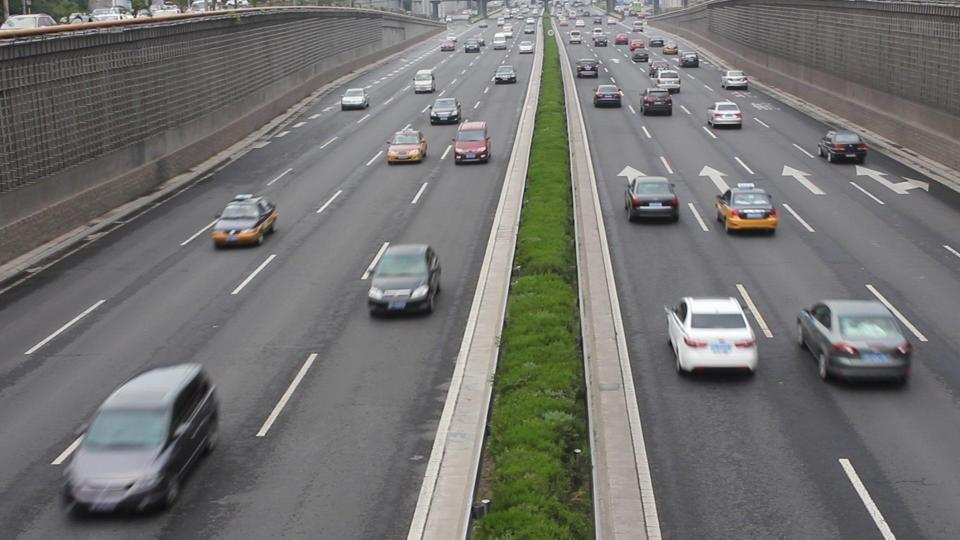car: (61, 362, 222, 516), (796, 300, 913, 386), (665, 295, 758, 378), (366, 244, 445, 316), (211, 194, 279, 248), (714, 182, 781, 236), (624, 176, 680, 223), (817, 129, 869, 165), (451, 120, 493, 164), (385, 126, 428, 164), (705, 100, 744, 130), (639, 88, 673, 117), (1, 13, 58, 30), (428, 96, 462, 124), (654, 66, 682, 94), (592, 84, 623, 107), (340, 88, 370, 110), (721, 69, 750, 91), (413, 69, 435, 94), (574, 57, 600, 78), (493, 64, 517, 84)
